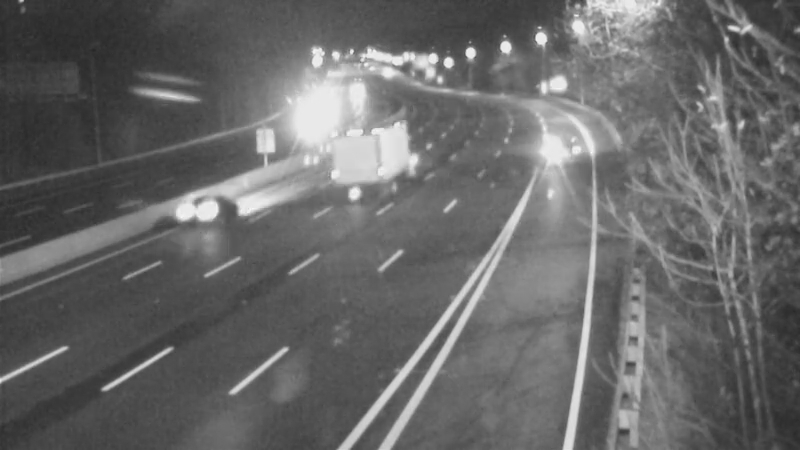vehicle: (521, 112, 601, 192), (317, 116, 397, 196), (159, 170, 239, 250), (286, 100, 336, 150)
